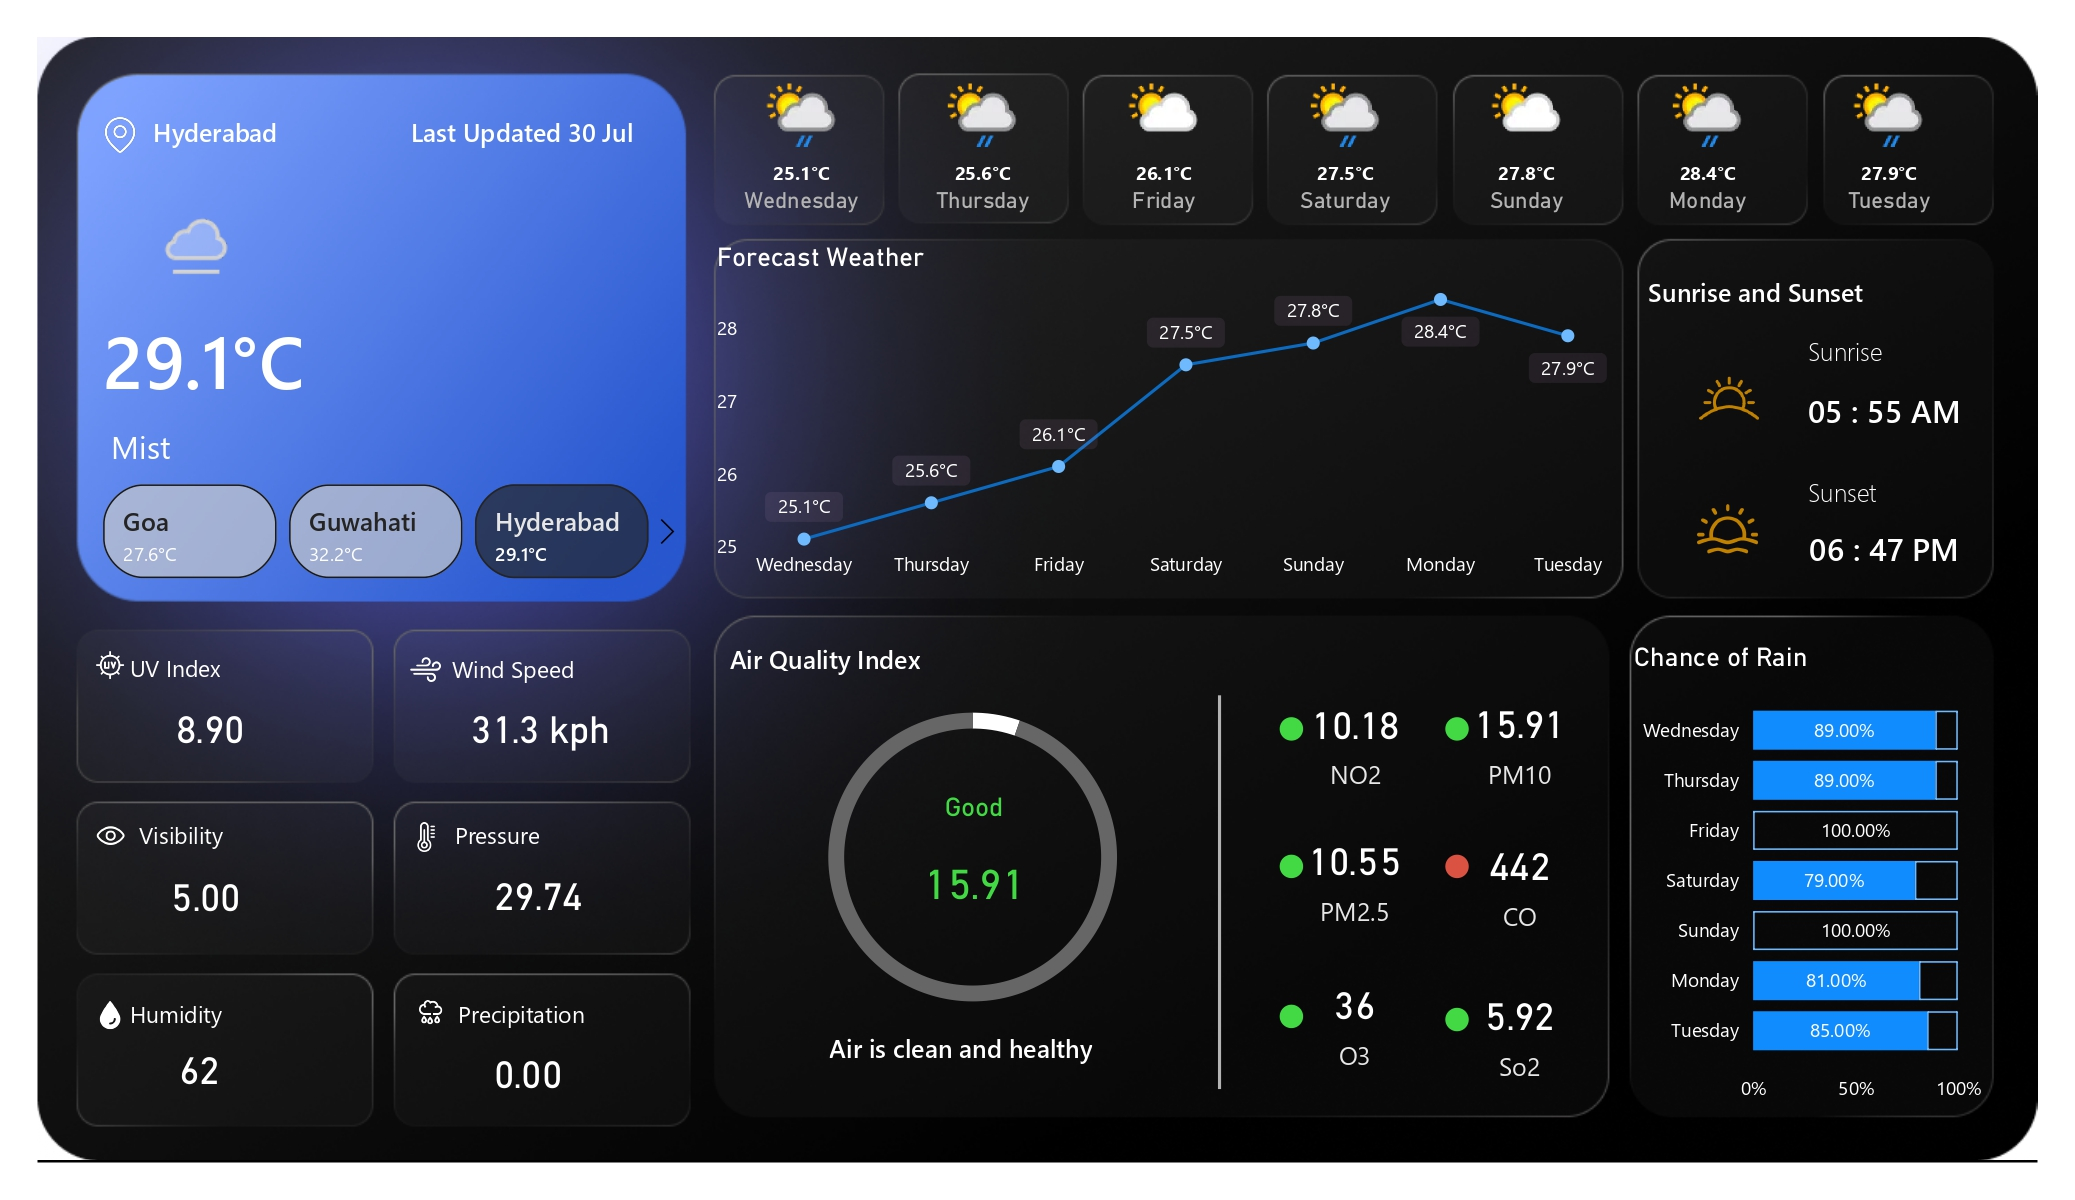

What the dashboard file says about the page in this screenshot:
{"tool":"powerbi","page":{"name":"Page 1","canvas":[1280,720],"ordinal":0},"visuals":[{"type":"advancedSlicerVisual","fields":{"Values":["Location.location.name"]},"box":[16.6,281.4,401.1,70],"z":0},{"type":"shape","box":[42,170.6,152.8,70],"z":1000},{"type":"shape","box":[47.1,240.6,338.7,40.7],"z":2000},{"type":"shape","box":[74.1,39.8,130.4,39.8],"z":3000},{"type":"shape","box":[238.9,41.2,166.1,38.4],"z":4000},{"type":"image","box":[35.7,43.9,32.9,35.7],"z":5000},{"type":"cardVisual","fields":{"Data":["Min(Current_data.current.condition.icon)"]},"box":[42.6,79.6,112.6,101.6],"z":6000},{"type":"image","box":[233,387.1,30.6,34.4],"z":7000},{"type":"image","box":[231.7,496.6,33.1,29.3],"z":8000},{"type":"image","box":[28,387.1,36.9,29.3],"z":9000},{"type":"image","box":[30.6,494,31.8,33.1],"z":10000},{"type":"image","box":[28,611.1,36.9,29.3],"z":11000},{"type":"shape","box":[64.9,494,90.4,31.8],"z":12000},{"type":"shape","box":[267.4,494,90.4,31.8],"z":13000},{"type":"shape","box":[58.6,608.6,90.4,31.8],"z":14000},{"type":"shape","box":[268.6,608.6,90.4,31.8],"z":15000},{"type":"shape","box":[58.6,387.1,90.4,31.8],"z":16000},{"type":"shape","box":[264.8,388.3,90.4,31.8],"z":17000},{"type":"image","box":[233,608.6,36.9,29.3],"z":18000},{"type":"card","fields":{"Values":["Sum(Current_data.current.uv)"]},"box":[73.6,419,73.6,46.3],"z":19000},{"type":"card","fields":{"Values":["_Measures.Wind Speed"]},"box":[267.4,418.9,109.5,45.8],"z":20000},{"type":"card","fields":{"Values":["Sum(Current_data.current.pressure_in)"]},"box":[282.7,525.8,75.1,45.8],"z":21000},{"type":"card","fields":{"Values":["Sum(Current_data.current.precip_in)"]},"box":[282.7,640.4,62.4,45.8],"z":22000},{"type":"card","fields":{"Values":["Sum(Current_data.current.humidity)"]},"box":[68.8,637.4,68.8,46.3],"z":23000},{"type":"card","fields":{"Values":["Sum(Current_data.current.vis_km)"]},"box":[65.3,527,84.3,46.3],"z":24000},{"type":"advancedSlicerVisual","fields":{"Values":["Forecast_days.Day_Name"]},"box":[429.7,16.5,816.9,114],"z":25000},{"type":"shape","box":[1031.1,142.8,186.7,38.4],"z":26000},{"type":"shape","box":[1133.2,219,112,38.2],"z":27000},{"type":"shape","box":[1134.4,306.8,112,38.2],"z":28000},{"type":"image","box":[1040.2,199.9,84,61.1],"z":29000},{"type":"image","box":[1055.5,290.3,52.2,48.4],"z":30000},{"type":"shape","box":[1133.2,271.2,112,38.2],"z":31000},{"type":"shape","box":[1133.2,180.8,121,38.2],"z":32000},{"type":"lineChart","title":"Forecast Weather","fields":{"Y":["Sum(Forecast_days.forecast.forecastday.day.avgtemp_c)"],"Category":["Forecast_days.Day_Name"]},"box":[429.7,130.4,587.6,225.2],"z":33000},{"type":"hundredPercentStackedBarChart","title":"Chance of Rain","fields":{"Y":["Sum(Forecast_days.forecast.forecastday.day.daily_chance_of_rain)","_Measures.Left_value_rain"],"Category":["Forecast_days.Day_Name"]},"box":[1017.3,385.8,232,304.8],"z":34000},{"type":"shape","box":[443.4,377.5,135.9,38.4],"z":35000},{"type":"card","fields":{"Values":["Sum(Current_data.current.air_quality.pm10)"]},"box":[908.9,416,79.6,67.3],"z":36000},{"type":"card","fields":{"Values":["Sum(Current_data.current.air_quality.co)"]},"box":[908.9,506.6,79.6,67.3],"z":37000},{"type":"card","fields":{"Values":["Sum(Current_data.current.air_quality.so2)"]},"box":[908.9,602.7,79.6,67.3],"z":38000},{"type":"card","fields":{"Values":["Sum(Current_data.current.air_quality.o3)"]},"box":[803.2,595.8,79.6,67.3],"z":39000},{"type":"card","fields":{"Values":["Sum(Current_data.current.air_quality.pm2_5)"]},"box":[803.2,503.9,79.6,67.3],"z":40000},{"type":"card","fields":{"Values":["Sum(Current_data.current.air_quality.no2)"]},"box":[803.4,416.3,80.2,67.5],"z":41000},{"type":"shape","box":[900.6,435.2,15.1,15.1],"z":42000},{"type":"shape","box":[900.6,523.1,15.1,15.1],"z":43000},{"type":"shape","box":[900.6,620.6,15.1,15.1],"z":44000},{"type":"shape","box":[794.9,619.2,15.1,15.1],"z":45000},{"type":"shape","box":[794.9,523.1,15.1,15.1],"z":46000},{"type":"shape","box":[794.9,435.2,15.1,15.1],"z":47000},{"type":"shape","box":[740,421.5,32.9,251.2],"z":48000},{"type":"card","fields":{"Values":["Sum(Current_data.current.air_quality.pm10)"]},"box":[558.8,481.9,81,98.8],"z":49000},{"type":"donutChart","fields":{"Y":["Sum(Current_data.current.air_quality.pm10)","_Measures.Left_Value_pm10"]},"box":[465.4,403.6,266.3,241.6],"z":50000},{"type":"shape","box":[450.3,626,281.4,39.8],"z":51000}]}

Visuals, with their boxes in screenshot pixels (x1, y1, x2, y2):
advancedSlicerVisual - Location.location.name: [63, 477, 690, 587]
shape: [103, 304, 342, 413]
shape: [111, 413, 640, 477]
shape: [153, 100, 357, 162]
shape: [411, 102, 670, 162]
image: [93, 106, 145, 162]
cardVisual - Min(Current_data.current.condition.icon): [104, 162, 280, 321]
image: [402, 642, 449, 696]
image: [400, 813, 451, 859]
image: [81, 642, 139, 688]
image: [85, 809, 135, 861]
image: [81, 992, 139, 1038]
shape: [139, 809, 280, 859]
shape: [455, 809, 597, 859]
shape: [129, 988, 270, 1038]
shape: [457, 988, 598, 1038]
shape: [129, 642, 270, 692]
shape: [451, 644, 593, 694]
image: [402, 988, 459, 1034]
card - Sum(Current_data.current.uv): [152, 692, 268, 765]
card - _Measures.Wind Speed: [455, 692, 626, 764]
card - Sum(Current_data.current.pressure_in): [479, 859, 597, 931]
card - Sum(Current_data.current.precip_in): [479, 1038, 577, 1110]
card - Sum(Current_data.current.humidity): [145, 1033, 252, 1106]
card - Sum(Current_data.current.vis_km): [140, 861, 271, 933]
advancedSlicerVisual - Forecast_days.Day_Name: [709, 63, 1985, 241]
shape: [1649, 261, 1940, 321]
shape: [1808, 380, 1983, 439]
shape: [1810, 517, 1985, 577]
image: [1663, 350, 1794, 445]
image: [1687, 491, 1768, 567]
shape: [1808, 461, 1983, 521]
shape: [1808, 320, 1997, 380]
"Forecast Weather" lineChart: [709, 241, 1627, 593]
"Chance of Rain" hundredPercentStackedBarChart: [1627, 640, 1990, 1117]
shape: [730, 627, 943, 687]
card - Sum(Current_data.current.air_quality.pm10): [1458, 688, 1582, 793]
card - Sum(Current_data.current.air_quality.co): [1458, 829, 1582, 934]
card - Sum(Current_data.current.air_quality.so2): [1458, 979, 1582, 1084]
card - Sum(Current_data.current.air_quality.o3): [1292, 968, 1417, 1074]
card - Sum(Current_data.current.air_quality.pm2_5): [1292, 825, 1417, 930]
card - Sum(Current_data.current.air_quality.no2): [1293, 688, 1418, 793]
shape: [1445, 718, 1468, 741]
shape: [1445, 855, 1468, 878]
shape: [1445, 1007, 1468, 1031]
shape: [1280, 1005, 1303, 1029]
shape: [1280, 855, 1303, 878]
shape: [1280, 718, 1303, 741]
shape: [1194, 696, 1245, 1089]
card - Sum(Current_data.current.air_quality.pm10): [911, 790, 1037, 945]
donutChart - Sum(Current_data.current.air_quality.pm10) x _Measures.Left_Value_pm10: [765, 668, 1181, 1046]
shape: [741, 1016, 1181, 1078]
